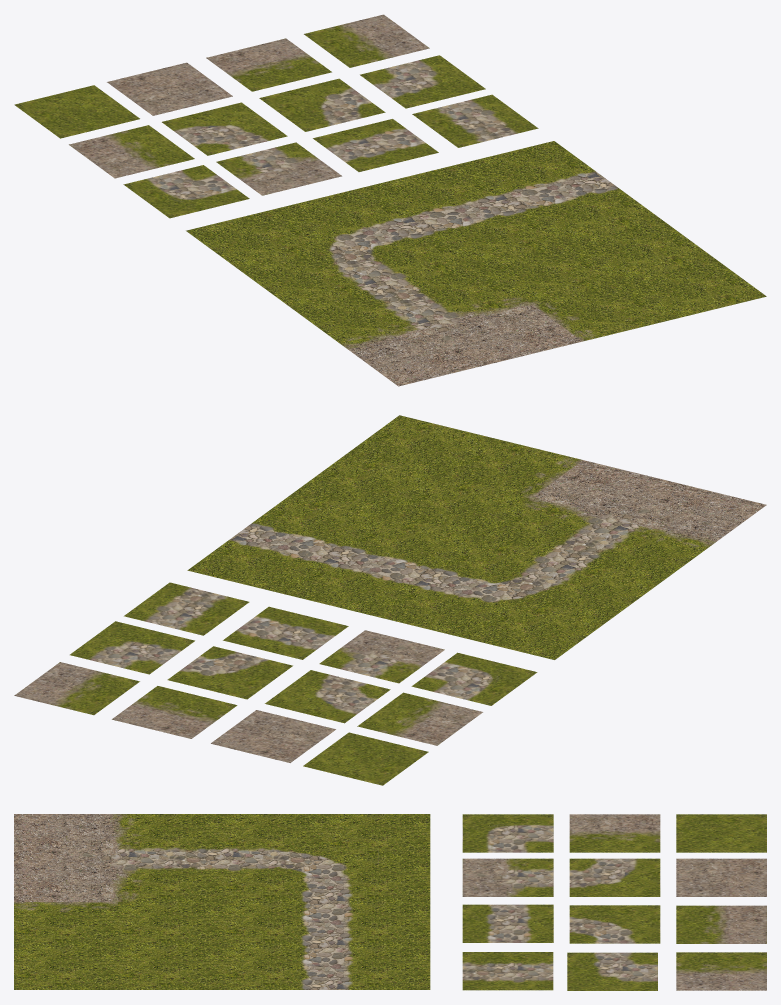
Rendered from Ô đất trưng bày.glb.
The picture shows the model from 3 angles, top to bottom: view 1: azimuth 30°, elevation 25°; view 2: azimuth 150°, elevation 25°; view 3: azimuth 270°, elevation 25°; orthographic projection. The views are drawn at different scales.
Parts seen in each view (by area): view 1: Plane.016_13, Plane.001_1, Plane.005_3, Plane.014_11, Plane.010_7, Plane.013_10, Plane.003_2, Plane.006_4, Plane.007_5, Plane.011_8, Plane.012_9, Plane.015_12 (+1 smaller); view 2: Plane.016_13, Plane.001_1, Plane.005_3, Plane.006_4, Plane.010_7, Plane.007_5, Plane.012_9, Plane.013_10, Plane.015_12, Plane.009_6, Plane.014_11, Plane.003_2 (+1 smaller); view 3: Plane.016_13, Plane.001_1, Plane.010_7, Plane.014_11, Plane.005_3, Plane.009_6, Plane.006_4, Plane.012_9, Plane.003_2, Plane.007_5, Plane.011_8, Plane.013_10 (+1 smaller).
Part boxes in pixels (bbox=[...]): Plane.016_13: bbox=[186, 141, 766, 386]; Plane.001_1: bbox=[123, 165, 249, 218]; Plane.005_3: bbox=[216, 142, 341, 195]; Plane.014_11: bbox=[69, 125, 194, 178]; Plane.010_7: bbox=[259, 78, 385, 131]; Plane.013_10: bbox=[360, 55, 485, 108]; Plane.003_2: bbox=[107, 62, 232, 115]; Plane.006_4: bbox=[162, 102, 287, 155]; Plane.007_5: bbox=[206, 38, 331, 91]; Plane.011_8: bbox=[304, 14, 429, 67]; Plane.012_9: bbox=[412, 94, 538, 147]; Plane.015_12: bbox=[14, 85, 139, 138]; Plane.016_13: bbox=[187, 415, 766, 659]; Plane.001_1: bbox=[411, 652, 537, 705]; Plane.005_3: bbox=[319, 630, 444, 683]; Plane.006_4: bbox=[265, 670, 390, 723]; Plane.010_7: bbox=[167, 646, 292, 699]; Plane.007_5: bbox=[112, 686, 237, 738]; Plane.012_9: bbox=[124, 582, 249, 635]; Plane.013_10: bbox=[70, 621, 194, 674]; Plane.015_12: bbox=[303, 732, 428, 785]; Plane.009_6: bbox=[223, 606, 348, 659]; Plane.014_11: bbox=[357, 692, 482, 745]; Plane.003_2: bbox=[211, 710, 335, 762]; Plane.016_13: bbox=[14, 814, 430, 989]; Plane.001_1: bbox=[462, 814, 553, 852]; Plane.010_7: bbox=[569, 905, 660, 943]; Plane.014_11: bbox=[569, 814, 660, 852]; Plane.005_3: bbox=[462, 858, 553, 896]; Plane.009_6: bbox=[462, 904, 553, 942]; Plane.006_4: bbox=[569, 858, 660, 896]; Plane.012_9: bbox=[462, 952, 553, 990]; Plane.003_2: bbox=[676, 858, 766, 896]; Plane.007_5: bbox=[676, 905, 766, 943]; Plane.011_8: bbox=[676, 952, 766, 990]; Plane.013_10: bbox=[567, 952, 657, 990].
Bounding box in the file's own units: 9.23 × 0 × 16.61.
Materials: 13 (13 with a texture image).
